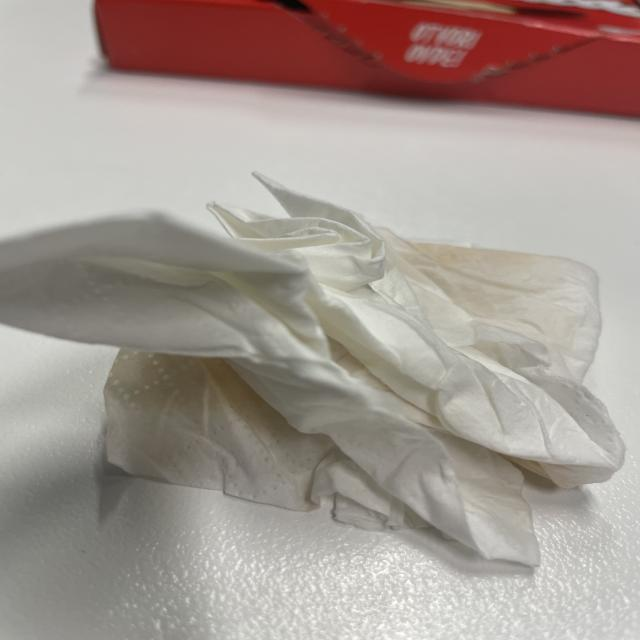kitchen paper: (0, 171, 626, 572)
